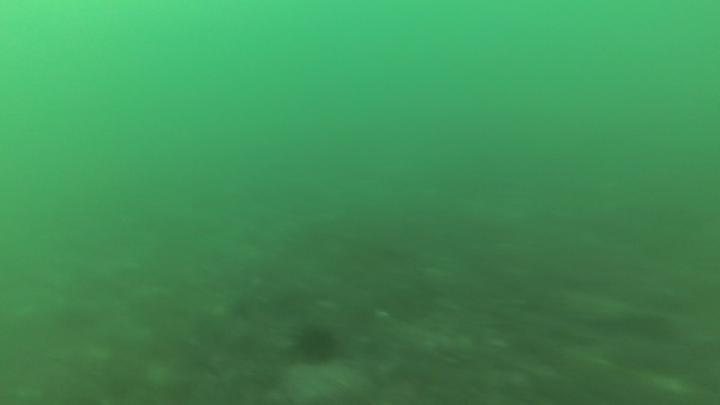echinus: (292, 322, 341, 368)
